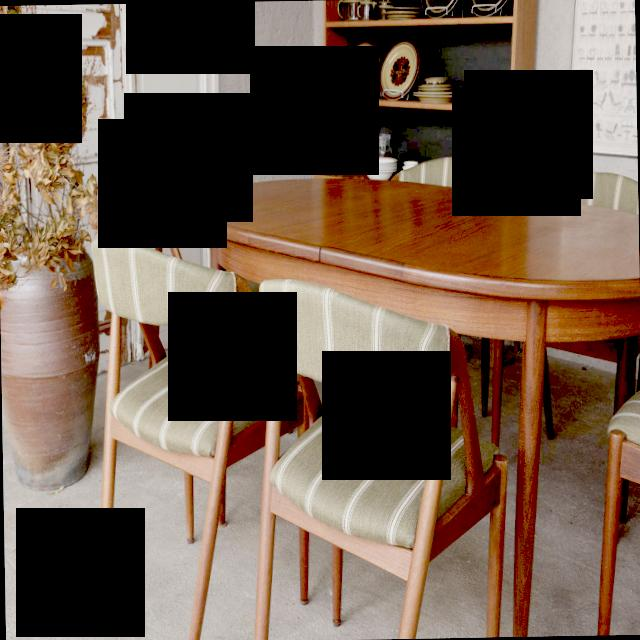chair vintage: (78, 221, 260, 640)
